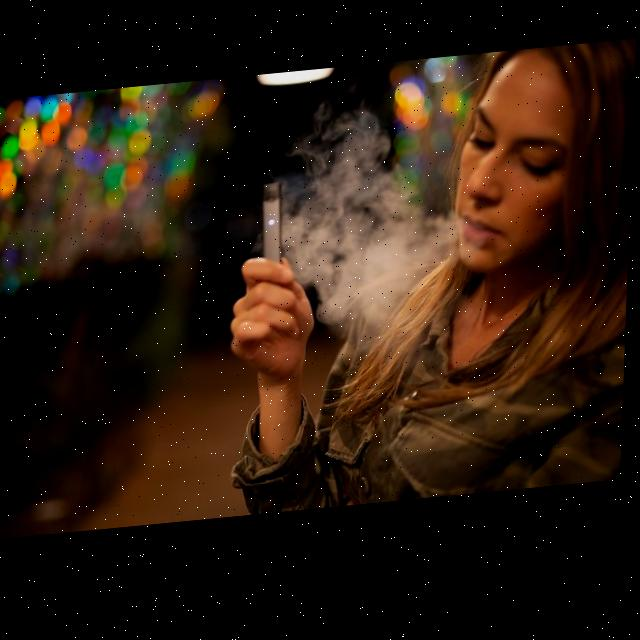vape: (263, 186, 287, 267)
